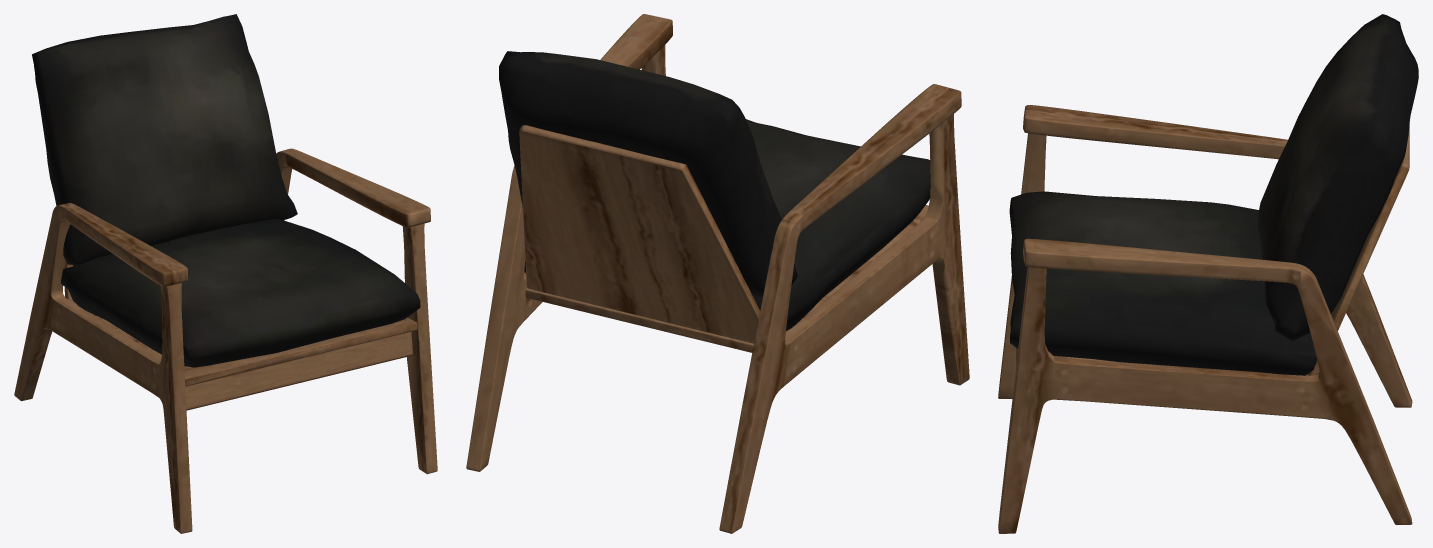
Rendered from armchair.glb.
3 renders of one model, left to right at view 1: azimuth 30°, elevation 25°; view 2: azimuth 150°, elevation 25°; view 3: azimuth 270°, elevation 25°, orthographic. The views are drawn at different scales.
Parts seen in each view (by area): view 1: modern_arm_chair_01; view 2: modern_arm_chair_01; view 3: modern_arm_chair_01.
Boxes of the visible parts, x1,y1,x2,y2 form: modern_arm_chair_01: (14,14,437,533); modern_arm_chair_01: (466,14,969,533); modern_arm_chair_01: (998,14,1418,533).
Bounding box in the file's own units: 0.8203 × 1.02 × 0.9866.
Materials: 2 (2 with a texture image).
